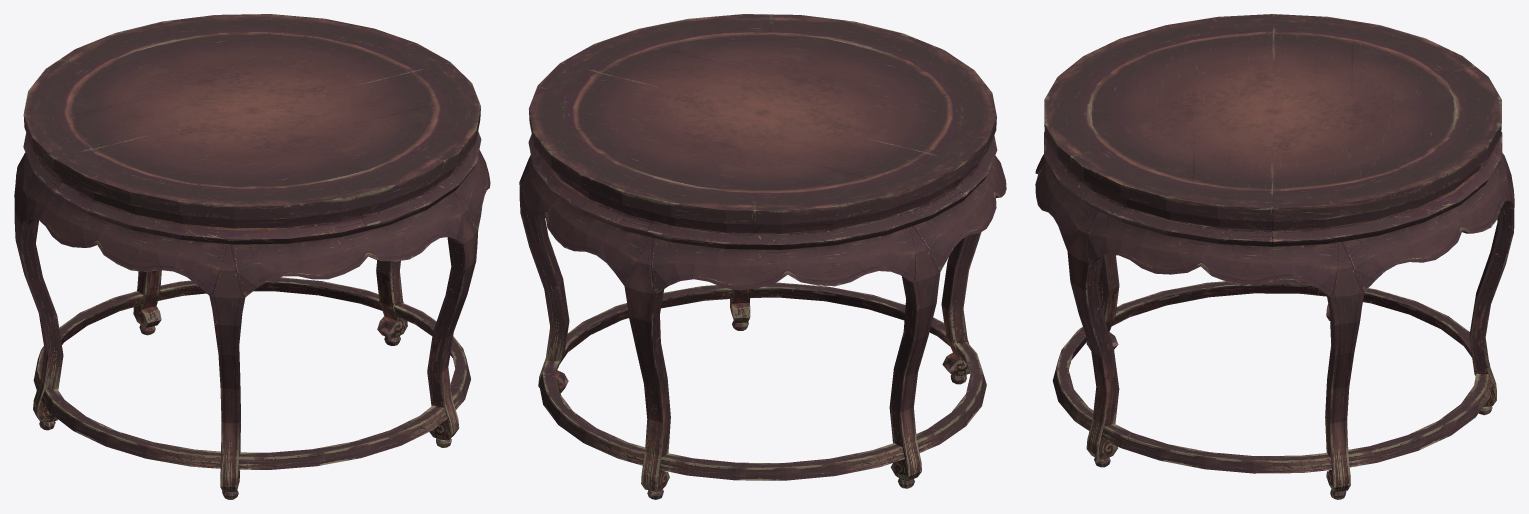
File: RedYuanZhuo.fbx
3 renders of one model, left to right at view 1: azimuth 30°, elevation 25°; view 2: azimuth 150°, elevation 25°; view 3: azimuth 270°, elevation 25°, orthographic. The views are drawn at different scales.
Visible parts, largest first — view 1: 3D_RedYuanZhuo.mo; view 2: 3D_RedYuanZhuo.mo; view 3: 3D_RedYuanZhuo.mo.
Boxes of the visible parts, x1,y1,x2,y2 form: 3D_RedYuanZhuo.mo: (14, 14, 490, 499); 3D_RedYuanZhuo.mo: (519, 14, 1006, 499); 3D_RedYuanZhuo.mo: (1035, 14, 1514, 499).
Bounding box in the file's own units: 99.44 × 69.24 × 99.56.
Materials: 1 (1 with a texture image).
